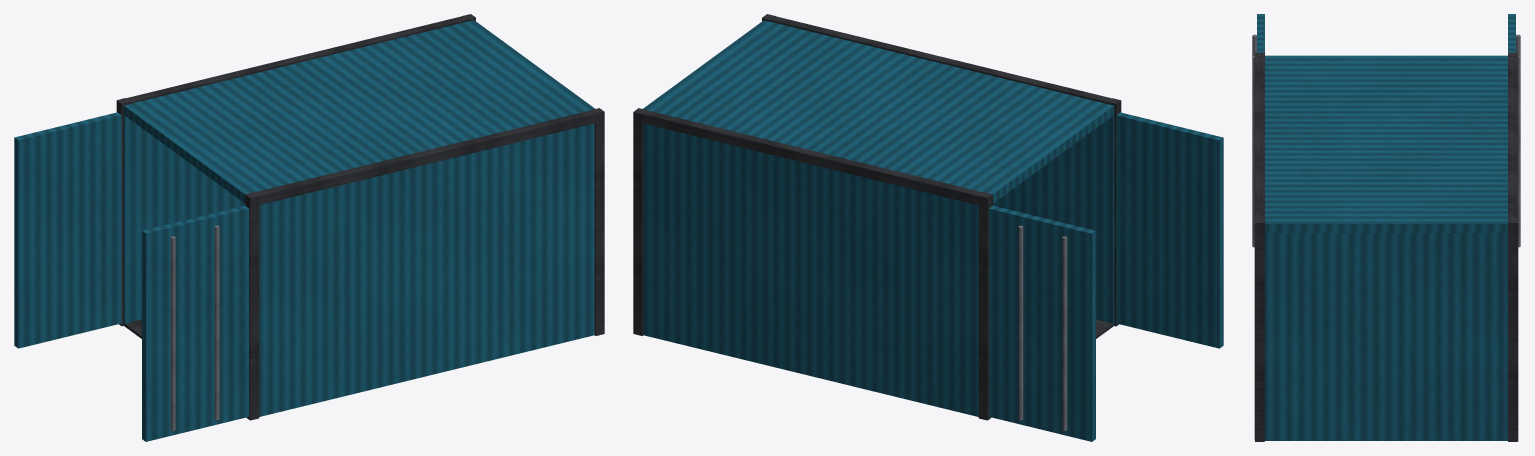
The model's file is Container_Open.fbx.
The picture shows the model from 3 angles, left to right: view 1: azimuth 30°, elevation 25°; view 2: azimuth 150°, elevation 25°; view 3: azimuth 270°, elevation 25°; orthographic projection.
Parts seen in each view (by area): view 1: Container_Open; view 2: Container_Open; view 3: Container_Open.
Part boxes in pixels (left/top/right/bottom): Container_Open: left=14, top=14, right=604, bottom=441; Container_Open: left=633, top=14, right=1223, bottom=441; Container_Open: left=1252, top=14, right=1520, bottom=441.
Size of the model in its own units: 5.22 by 2.43 by 2.69.
Materials: 3 (3 with a texture image).
